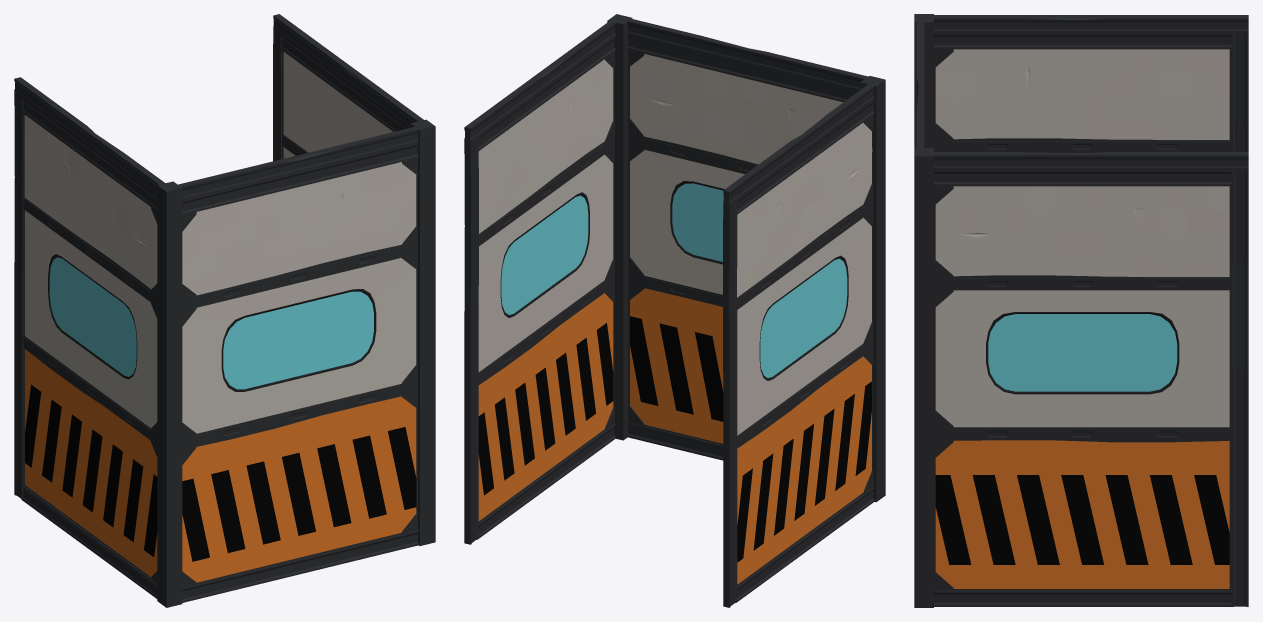
File: SM_Wall_Angle_02.gltf
3 views of the same model, side by side, from view 1: azimuth 30°, elevation 25°; view 2: azimuth 150°, elevation 25°; view 3: azimuth 270°, elevation 25° (orthographic). The views are drawn at different scales.
Parts seen in each view (by area): view 1: SM_Wall_Angle_02; view 2: SM_Wall_Angle_02; view 3: SM_Wall_Angle_02.
Boxes of the visible parts, bbox=[...] form: SM_Wall_Angle_02: bbox=[14, 14, 435, 607]; SM_Wall_Angle_02: bbox=[464, 14, 885, 607]; SM_Wall_Angle_02: bbox=[914, 14, 1248, 607].
Bounding box in the file's own units: 2.03 × 3 × 2.01.
